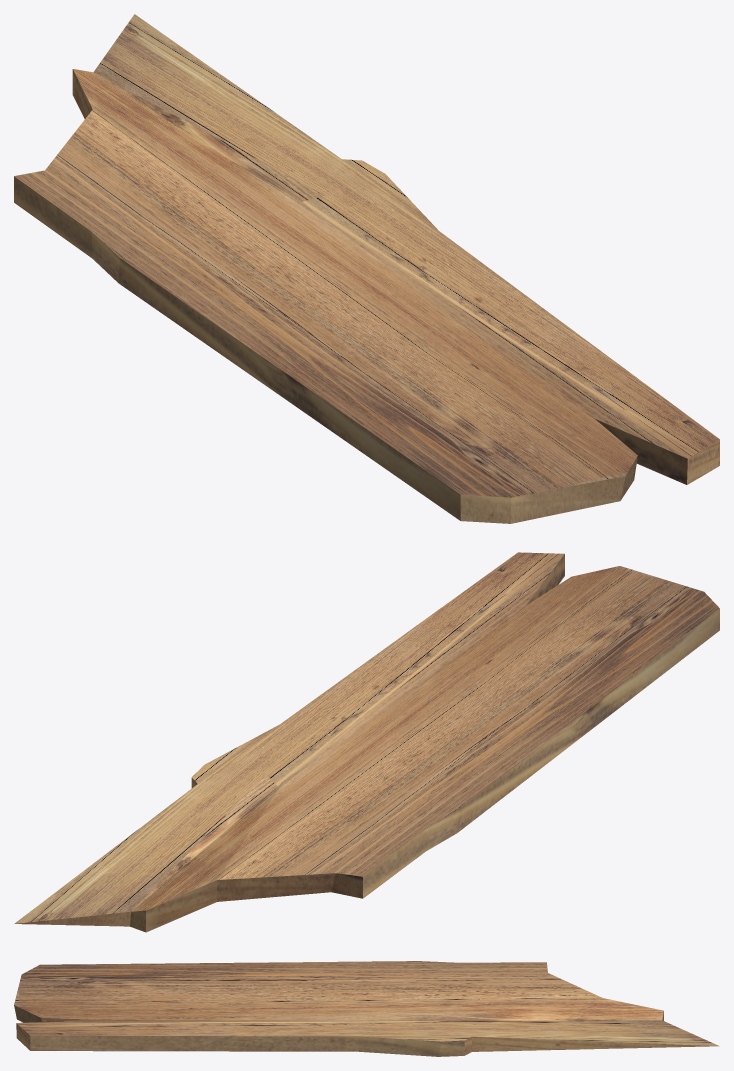
File: plank1.fbx
The picture shows the model from 3 angles, top to bottom: view 1: azimuth 30°, elevation 25°; view 2: azimuth 150°, elevation 25°; view 3: azimuth 270°, elevation 25°; orthographic projection. The views are drawn at different scales.
Visible parts, largest first — view 1: Plane.035; view 2: Plane.035; view 3: Plane.035.
Boxes of the visible parts, x1,y1,x2,y2 form: Plane.035: (14, 14, 719, 523); Plane.035: (14, 552, 719, 932); Plane.035: (14, 961, 719, 1056).
Bounding box in the file's own units: 150 × 16.6 × 554.
